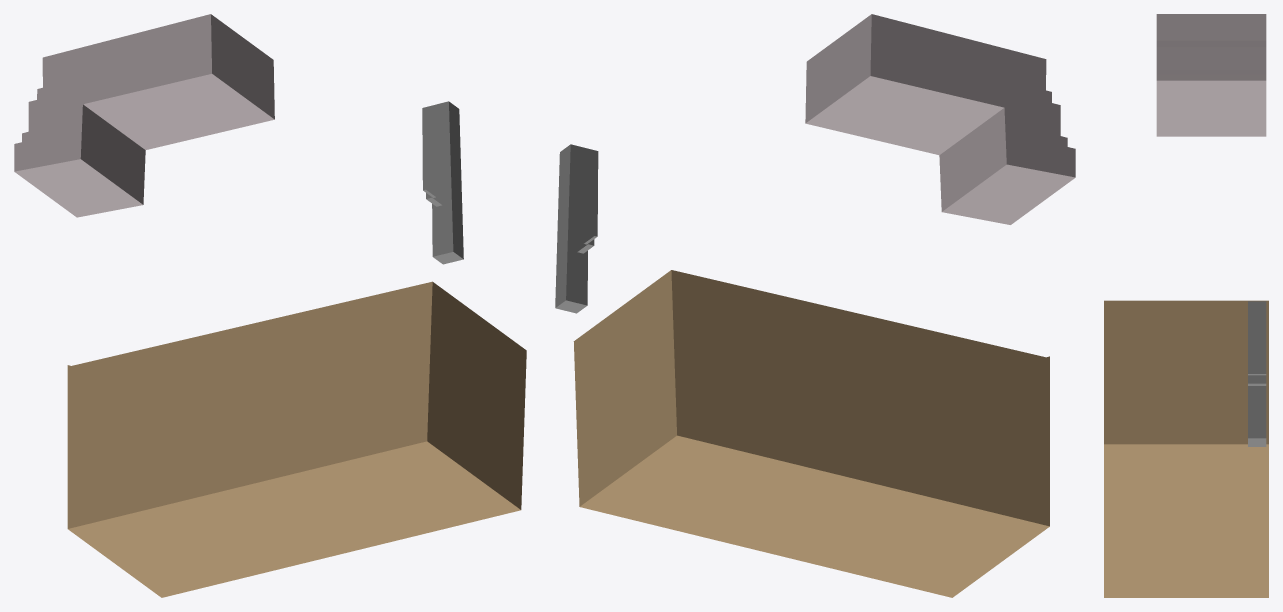
3 views of the same model, side by side, from view 1: azimuth 30°, elevation 25°; view 2: azimuth 150°, elevation 25°; view 3: azimuth 270°, elevation 25° (orthographic). The views are drawn at different scales.
Visible parts, largest first — view 1: 0_0_3_1_2_3_0_0; view 2: 0_0_3_1_2_3_0_0; view 3: 0_0_3_1_2_3_0_0.
Boxes of the visible parts, left/top/right/bottom form: 0_0_3_1_2_3_0_0: left=14, top=14, right=526, bottom=597; 0_0_3_1_2_3_0_0: left=555, top=14, right=1075, bottom=597; 0_0_3_1_2_3_0_0: left=1104, top=14, right=1268, bottom=597.
Size of the model in its own units: 72.73 by 76.18 by 27.
